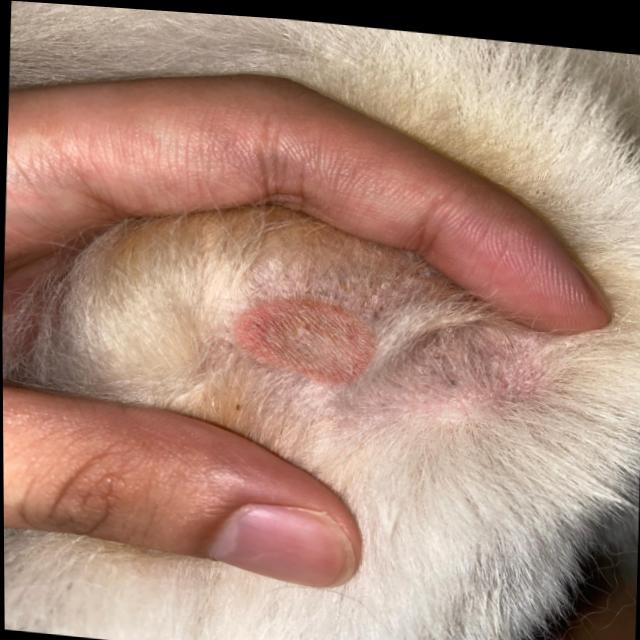ringworm: (192, 260, 462, 405)
